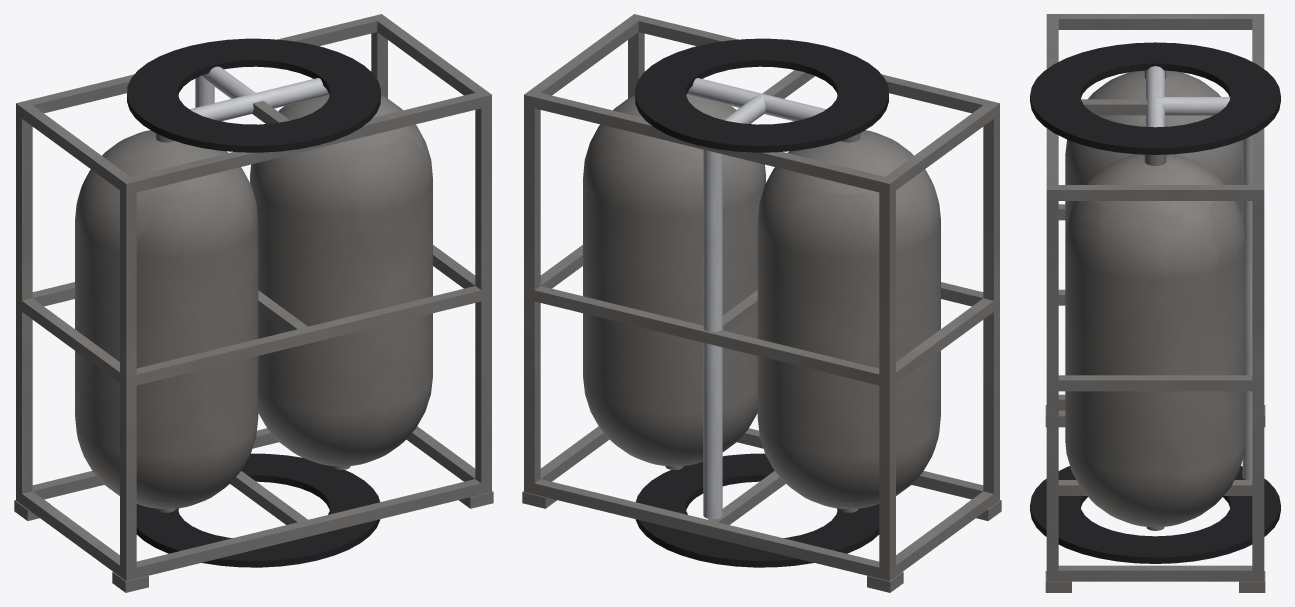
File: tank03_hypergol_s.glb
The picture shows the model from 3 angles, left to right: view 1: azimuth 30°, elevation 25°; view 2: azimuth 150°, elevation 25°; view 3: azimuth 270°, elevation 25°; orthographic projection.
Visible parts, largest first — view 1: frame, tank_mmh, tank_nto, stack_rings, plumbing; view 2: frame, tank_mmh, tank_nto, stack_rings, plumbing; view 3: tank_nto, frame, stack_rings, tank_mmh, plumbing.
Boxes of the visible parts, x1,y1,x2,y2 form: frame: (14, 14, 493, 592); tank_mmh: (75, 130, 258, 512); tank_nto: (250, 95, 432, 469); stack_rings: (127, 38, 380, 567); plumbing: (190, 66, 329, 121); frame: (522, 14, 1001, 592); tank_mmh: (757, 130, 940, 512); tank_nto: (583, 95, 765, 469); stack_rings: (635, 38, 888, 567); plumbing: (686, 78, 825, 519); tank_nto: (1065, 154, 1245, 530); frame: (1045, 14, 1265, 592); stack_rings: (1030, 42, 1280, 563); tank_mmh: (1065, 70, 1242, 236); plumbing: (1146, 66, 1252, 480).
Bounding box in the file's own units: 2.09 × 2.29 × 1.25.
3 materials, 2 textured.
